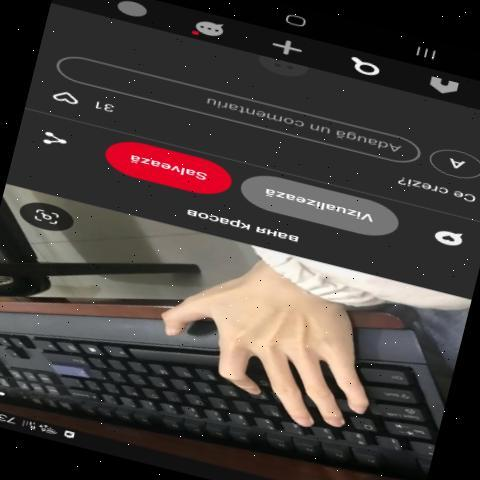Hands: (138, 270, 393, 454)
